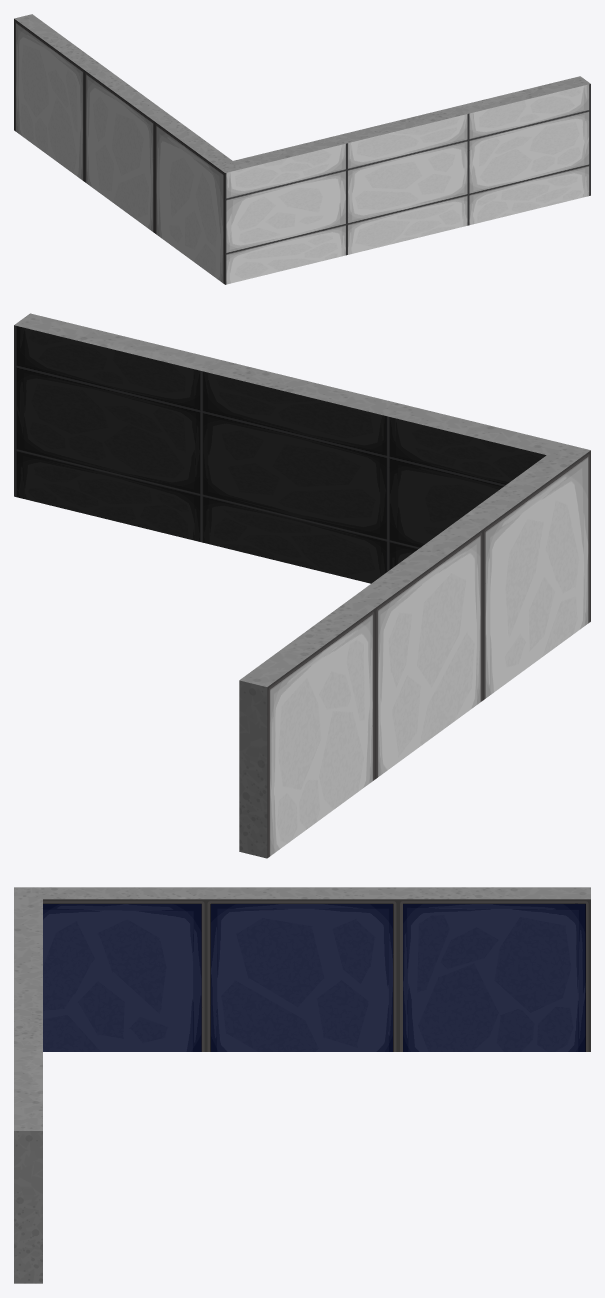
Rendered from SM_Wall_Corner_Stub_In.fbx.
The picture shows the model from 3 angles, top to bottom: view 1: azimuth 30°, elevation 25°; view 2: azimuth 150°, elevation 25°; view 3: azimuth 270°, elevation 25°; orthographic projection. The views are drawn at different scales.
Parts seen in each view (by area): view 1: SM_Wall_Corner_Stub_In; view 2: SM_Wall_Corner_Stub_In; view 3: SM_Wall_Corner_Stub_In.
Part boxes in pixels (<box>): SM_Wall_Corner_Stub_In: <box>14,14,590,284</box>; SM_Wall_Corner_Stub_In: <box>14,313,590,858</box>; SM_Wall_Corner_Stub_In: <box>14,887,590,1283</box>.
Bounding box in the file's own units: 400 × 117 × 400.
